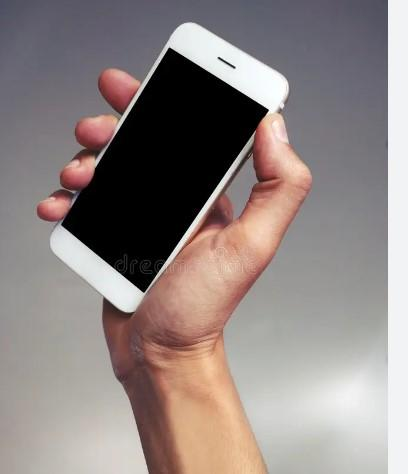Smart Phone: (50, 22, 289, 316)
